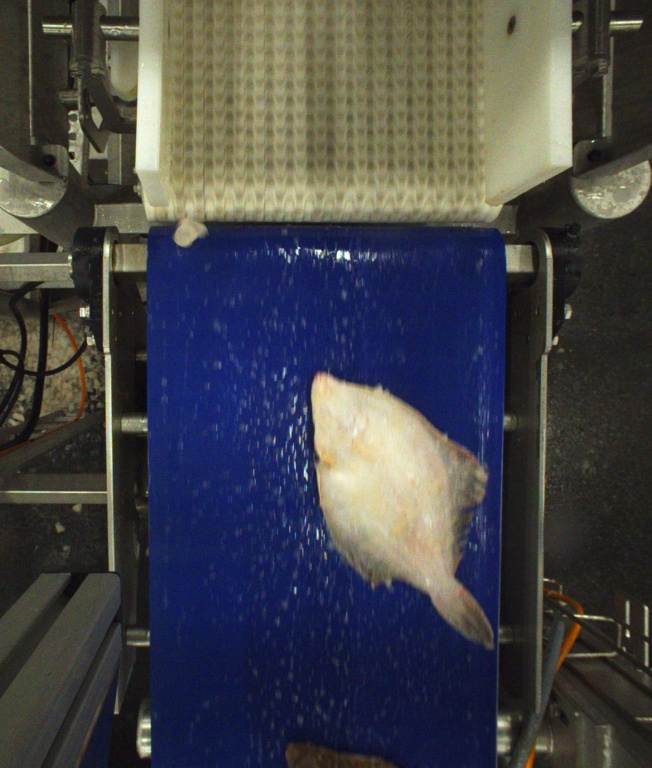PLE: (306, 373, 494, 649)
